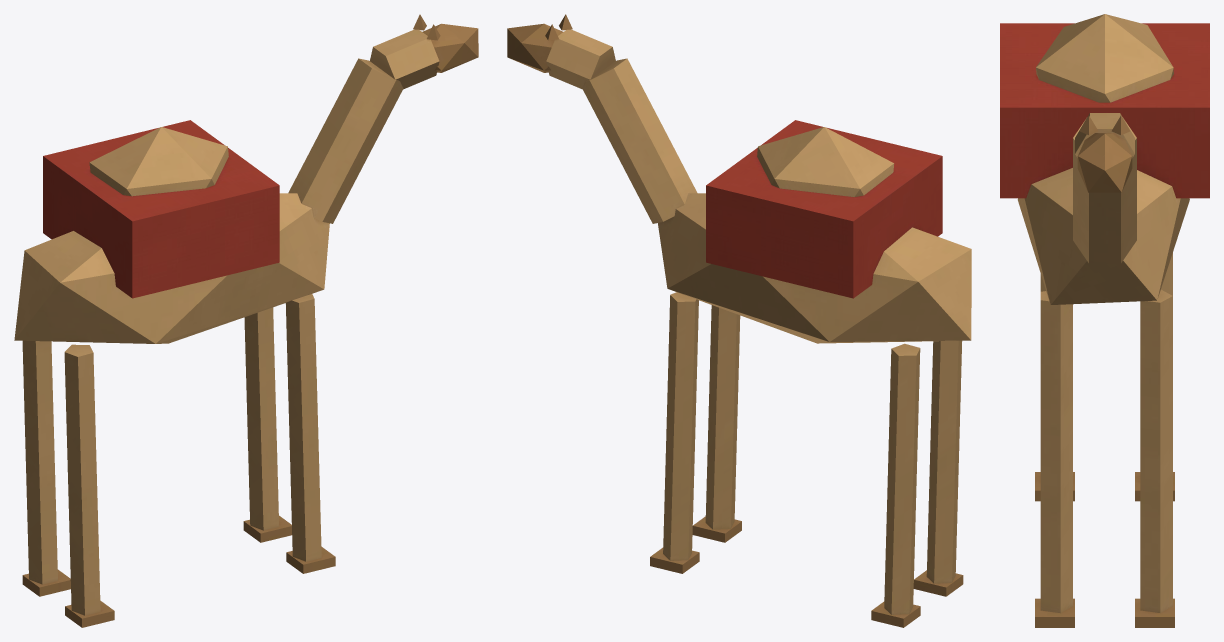
File: kamel_tex.glb
3 views of the same model, side by side, from view 1: azimuth 30°, elevation 25°; view 2: azimuth 150°, elevation 25°; view 3: azimuth 270°, elevation 25° (orthographic). The views are drawn at different scales.
Visible parts, largest first — view 1: kamel; view 2: kamel; view 3: kamel.
Part boxes in pixels (x1,y1,x2,y2): kamel: [14, 14, 478, 627]; kamel: [507, 14, 971, 627]; kamel: [1000, 14, 1209, 627].
Size of the model in its own units: 3.15 by 3.22 by 1.05.
Materials: 3 (3 with a texture image).
